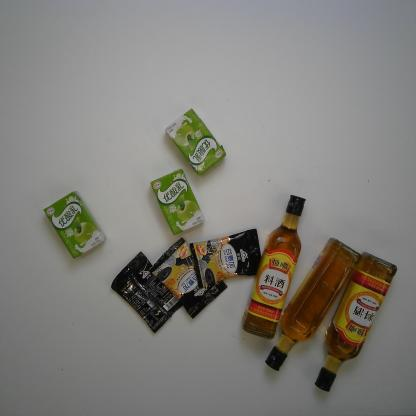Instant Drink: (148, 237, 230, 320), (110, 251, 186, 333), (188, 228, 265, 289)
Milk: (42, 190, 107, 261), (164, 106, 227, 178), (148, 167, 204, 237)
Seasoner: (264, 235, 362, 373), (314, 250, 400, 393), (240, 193, 306, 340)
